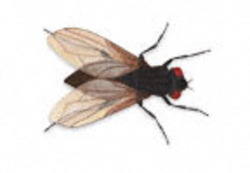fly: (37, 19, 212, 148)
